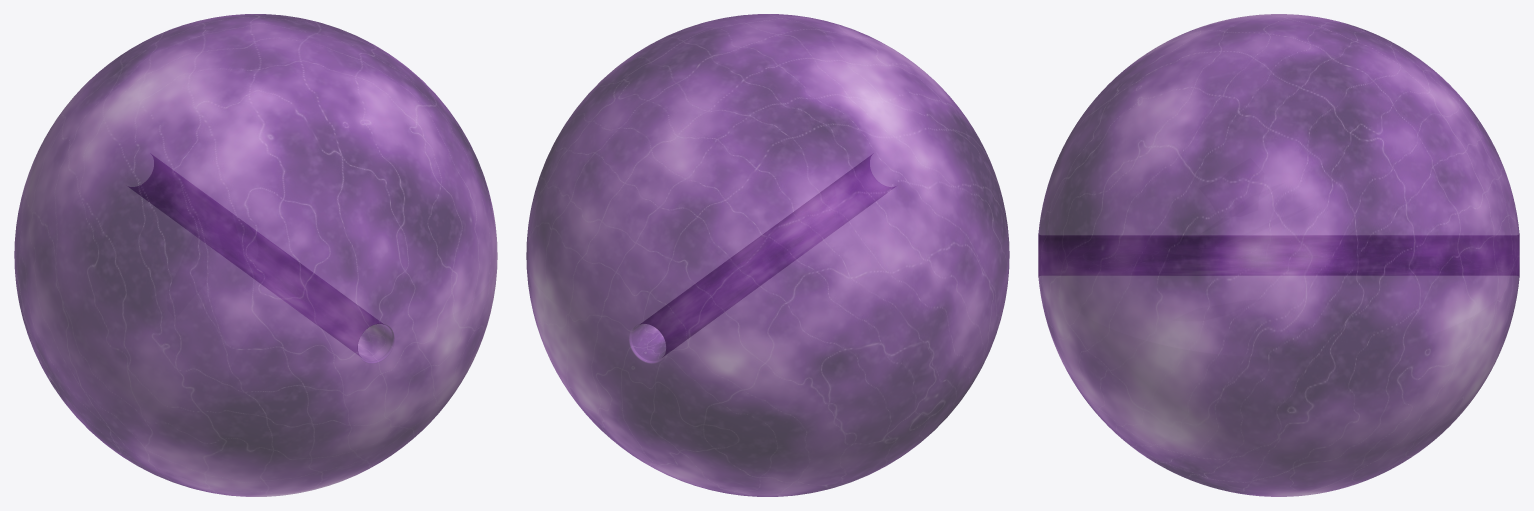
The model's file is amethyst-12mm.glb.
The picture shows the model from 3 angles, left to right: view 1: azimuth 30°, elevation 25°; view 2: azimuth 150°, elevation 25°; view 3: azimuth 270°, elevation 25°; orthographic projection.
Parts seen in each view (by area): view 1: amethyst.001; view 2: amethyst.001; view 3: amethyst.001.
Boxes of the visible parts, x1,y1,x2,y2 form: amethyst.001: [14, 14, 497, 496]; amethyst.001: [526, 14, 1009, 496]; amethyst.001: [1038, 14, 1519, 496].
Bounding box in the file's own units: 0.012 × 0.012 × 0.012.
2 materials, 1 textured.
